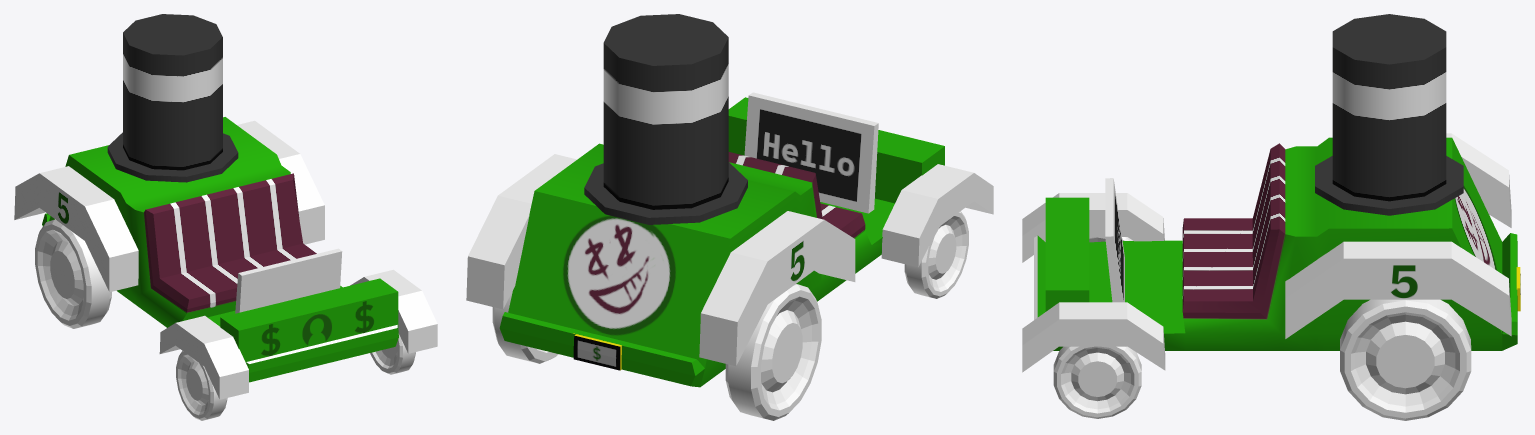
File: V2Money.FBX
3 renders of one model, left to right at view 1: azimuth 30°, elevation 25°; view 2: azimuth 150°, elevation 25°; view 3: azimuth 270°, elevation 25°, orthographic. The views are drawn at different scales.
Parts seen in each view (by area): view 1: Car Body, TopHat, BRWheelWell001, WheelBR, FRWheelWell001, BLWheelWell, FLWheelWell, TopHatBotton, WheelFR, WheelFL001; view 2: Car Body, TopHat, BRWheelWell001, WheelBR, BLWheelWell, FRWheelWell001, TopHatBotton, WheelFR, WheelBL001; view 3: Car Body, TopHat, WheelBL001, BLWheelWell, FLWheelWell, WheelFL001, FRWheelWell001, TopHatBotton, BRWheelWell001.
Boxes of the visible parts, box(x1,y1,x2,y2) form: Car Body: box(42, 117, 398, 382); TopHat: box(123, 14, 222, 170); BRWheelWell001: box(14, 166, 138, 292); WheelBR: box(35, 219, 111, 328); FRWheelWell001: box(159, 315, 248, 399); BLWheelWell: box(237, 120, 324, 244); FLWheelWell: box(350, 269, 437, 353); TopHatBotton: box(107, 132, 238, 182); WheelFR: box(176, 351, 227, 420); WheelFL001: box(370, 334, 415, 374); Car Body: box(499, 92, 944, 387); TopHat: box(603, 14, 728, 209); BRWheelWell001: box(699, 211, 855, 366); WheelBR: box(725, 284, 821, 420); BLWheelWell: box(466, 154, 576, 309); FRWheelWell001: box(881, 164, 993, 267); TopHatBotton: box(584, 162, 747, 224); WheelFR: box(904, 211, 968, 298); WheelBL001: box(492, 291, 558, 363); Car Body: box(1034, 137, 1520, 350); TopHat: box(1332, 14, 1446, 201); WheelBL001: box(1340, 299, 1471, 420); BLWheelWell: box(1285, 241, 1511, 338); FLWheelWell: box(1022, 302, 1165, 372); WheelFL001: box(1053, 346, 1141, 418); FRWheelWell001: box(1022, 193, 1164, 262); TopHatBotton: box(1315, 156, 1463, 215); BRWheelWell001: box(1446, 133, 1511, 227).
Size of the model in its own units: 35.61 by 42.23 by 59.23.
Materials: 6 (5 with a texture image).
